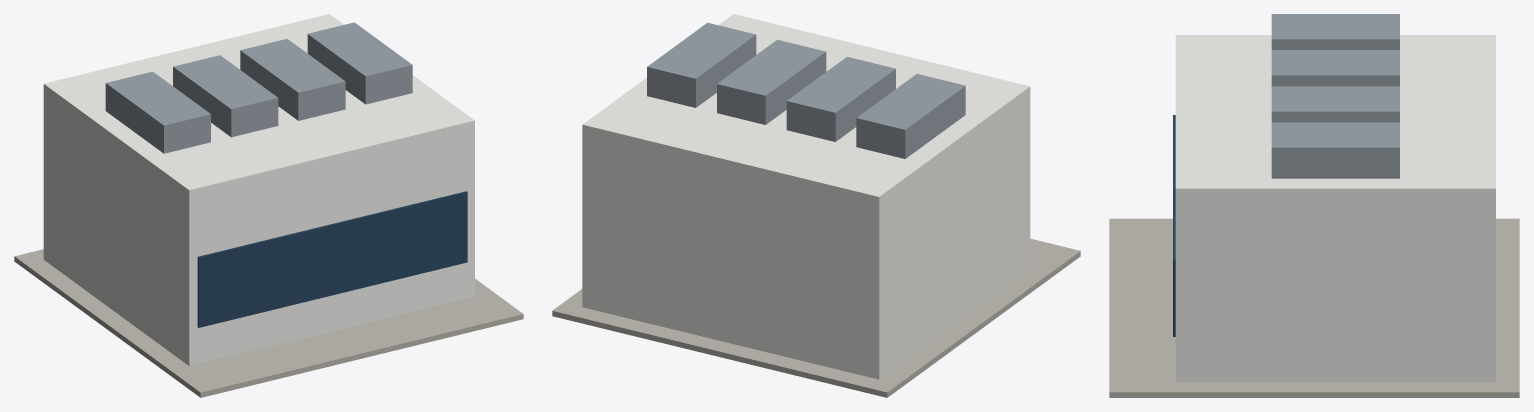
Rendered from zone_I_d3_e4.glb.
3 views of the same model, side by side, from view 1: azimuth 30°, elevation 25°; view 2: azimuth 150°, elevation 25°; view 3: azimuth 270°, elevation 25° (orthographic). The views are drawn at different scales.
Parts seen in each view (by area): view 1: zone_I_d3_e4; view 2: zone_I_d3_e4; view 3: zone_I_d3_e4.
Boxes of the visible parts, x1,y1,x2,y2 form: zone_I_d3_e4: (14, 14, 523, 397); zone_I_d3_e4: (552, 14, 1080, 397); zone_I_d3_e4: (1109, 14, 1519, 397).
Size of the model in its own units: 0.96 by 0.595 by 0.96.
